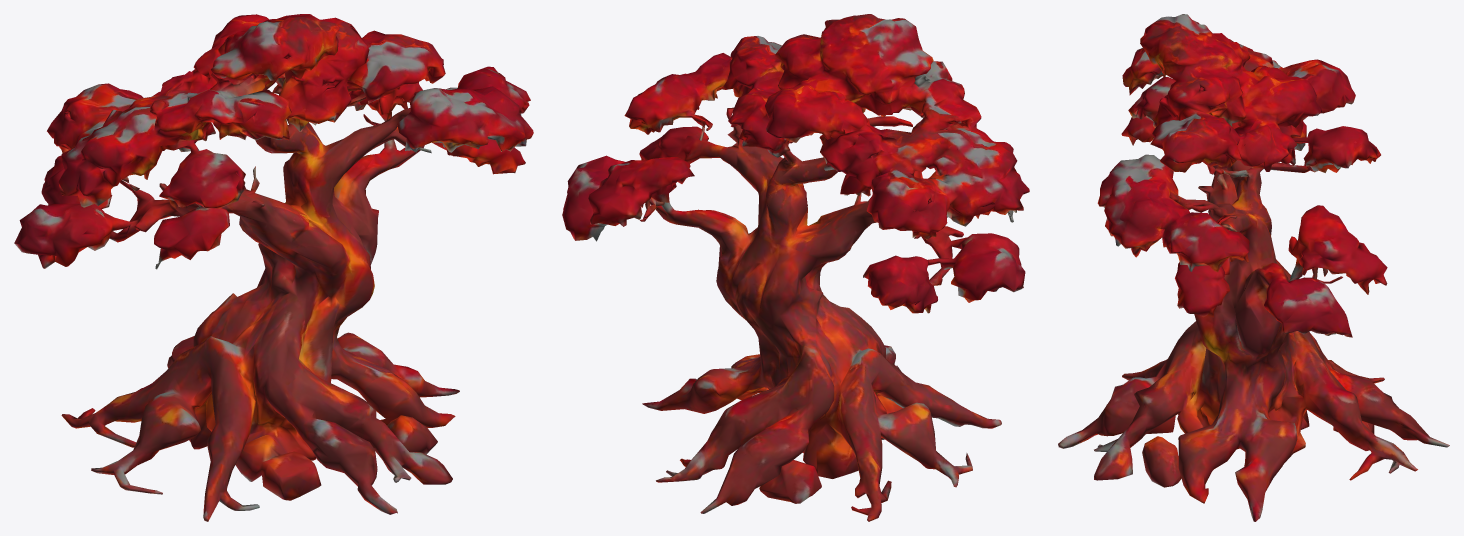
File: arbolfuego.glb
3 renders of one model, left to right at view 1: azimuth 30°, elevation 25°; view 2: azimuth 150°, elevation 25°; view 3: azimuth 270°, elevation 25°, orthographic. The views are drawn at different scales.
Visible parts, largest first — view 1: tripo_node_42a81479-f36f-4b69-babc-5dfb88373406; view 2: tripo_node_42a81479-f36f-4b69-babc-5dfb88373406; view 3: tripo_node_42a81479-f36f-4b69-babc-5dfb88373406.
Part boxes in pixels (x1=…): tripo_node_42a81479-f36f-4b69-babc-5dfb88373406: x1=14, y1=14, x2=533, y2=521; tripo_node_42a81479-f36f-4b69-babc-5dfb88373406: x1=562, y1=14, x2=1029, y2=521; tripo_node_42a81479-f36f-4b69-babc-5dfb88373406: x1=1058, y1=14, x2=1449, y2=521.
Bounding box in the file's own units: 0.9983 × 0.8919 × 0.7734.
1 material, 1 textured.
